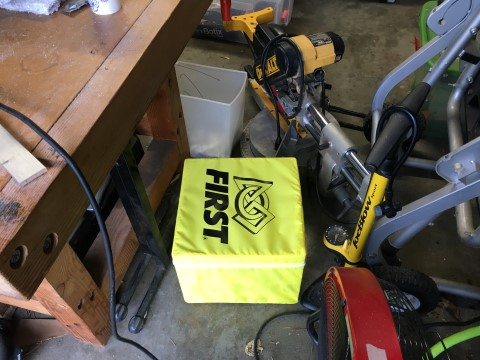cube: (171, 158, 306, 305)
